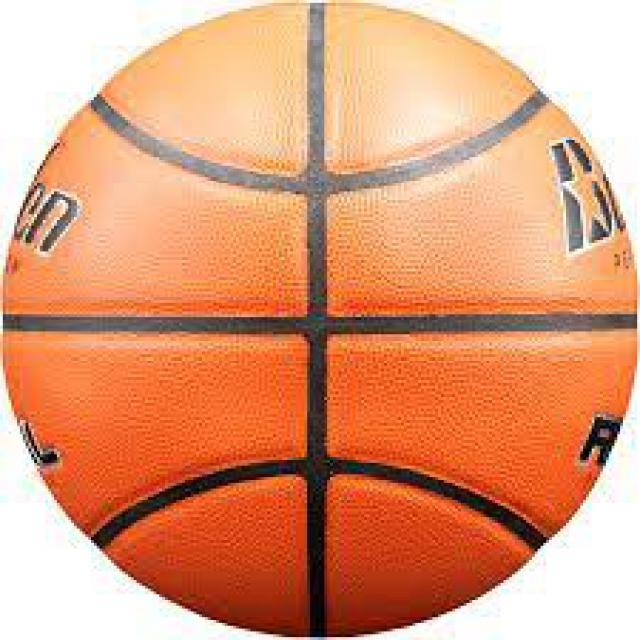basketball: (2, 2, 638, 638)
